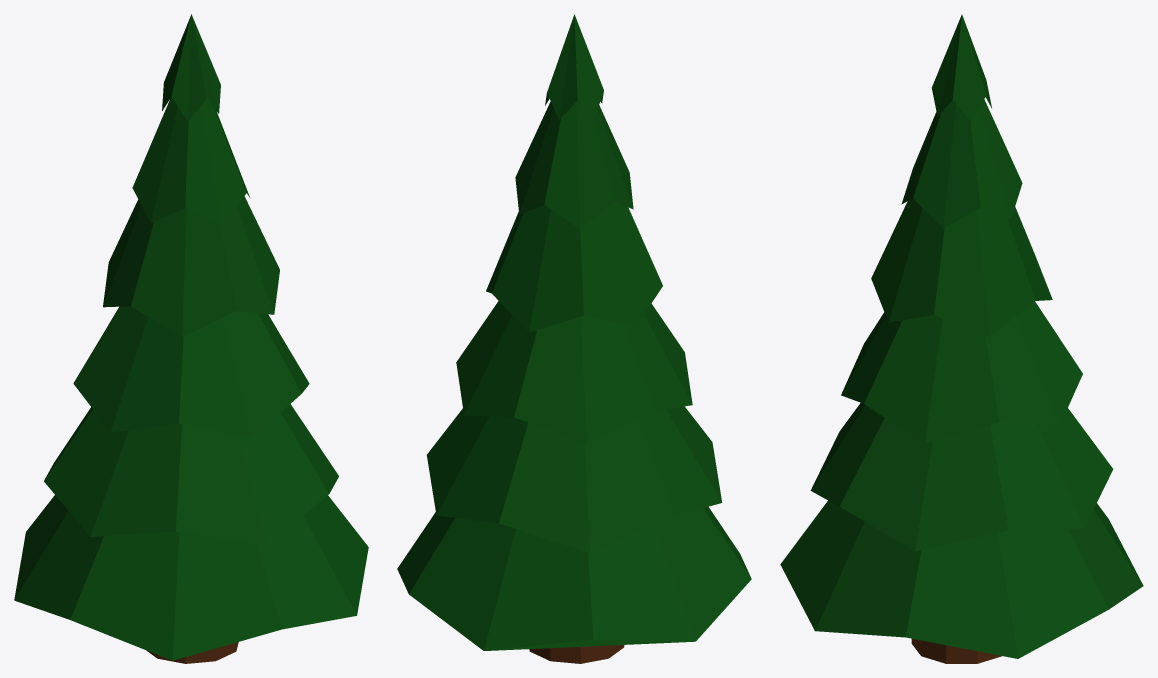
The model's file is Spruce.fbx.
3 renders of one model, left to right at view 1: azimuth 30°, elevation 25°; view 2: azimuth 150°, elevation 25°; view 3: azimuth 270°, elevation 25°, orthographic.
Visible parts, largest first — view 1: TreeS; view 2: TreeS; view 3: TreeS.
Part boxes in pixels (bbox=[...]): TreeS: bbox=[14, 14, 368, 663]; TreeS: bbox=[397, 14, 751, 663]; TreeS: bbox=[780, 14, 1143, 663].
Size of the model in its own units: 541 by 1088 by 569.
